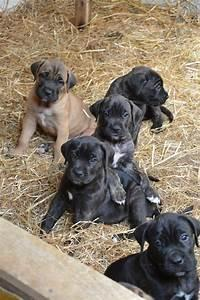dog: (39, 134, 150, 235), (6, 57, 97, 164), (103, 212, 199, 299), (103, 65, 173, 133)
